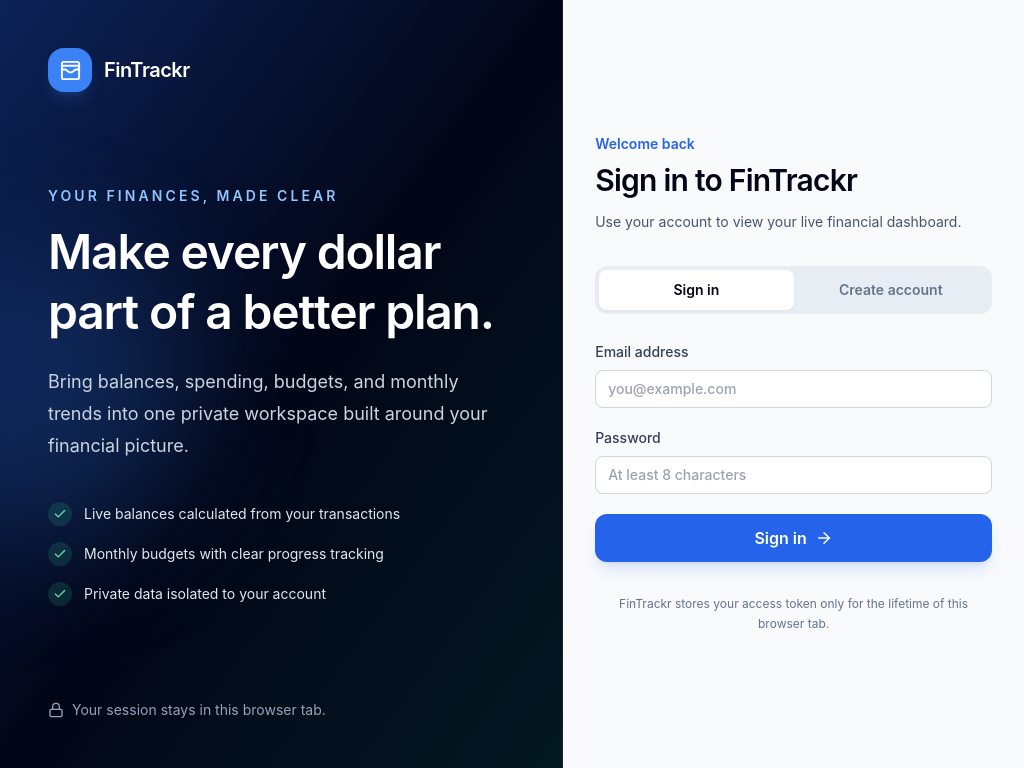
Test: AuthPage › shows the API error when credentials are rejected
This screenshot has width=1024, height=768.
Type "wrong@example.com" into the field labelled "Email address".
click(794, 389); type("wrong@example.com")  # box [595,370,992,408]
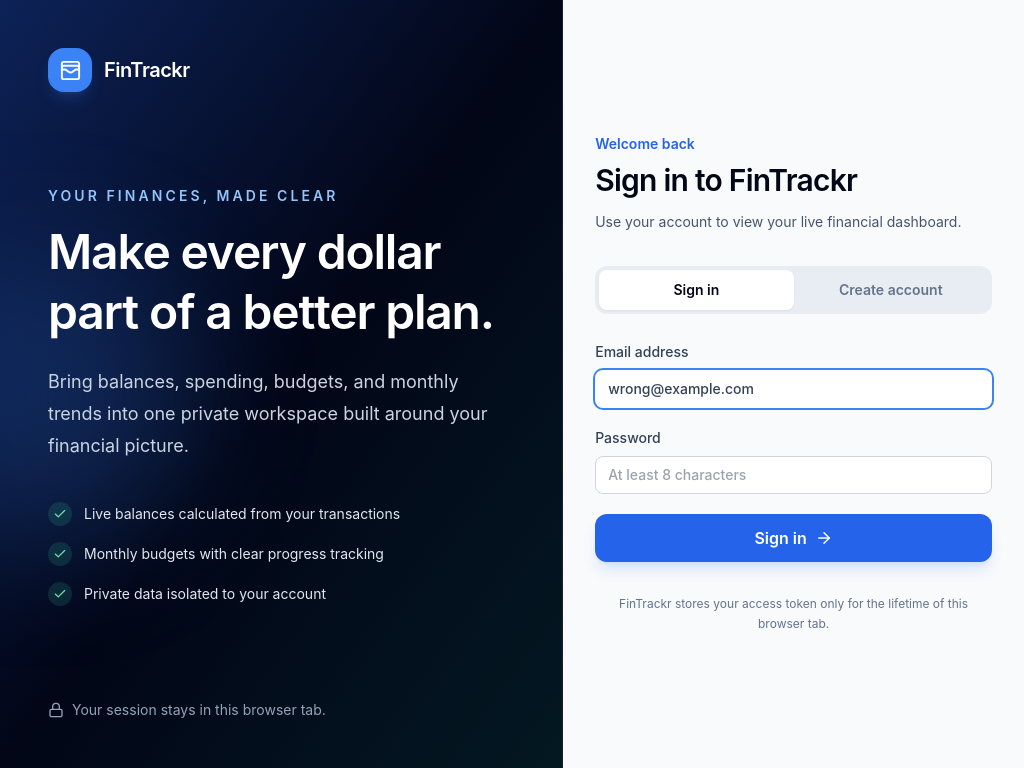
Type "Password123!" into the password field labelled "Password".
click(794, 475); type("Password123!")  # box [595,456,992,494]
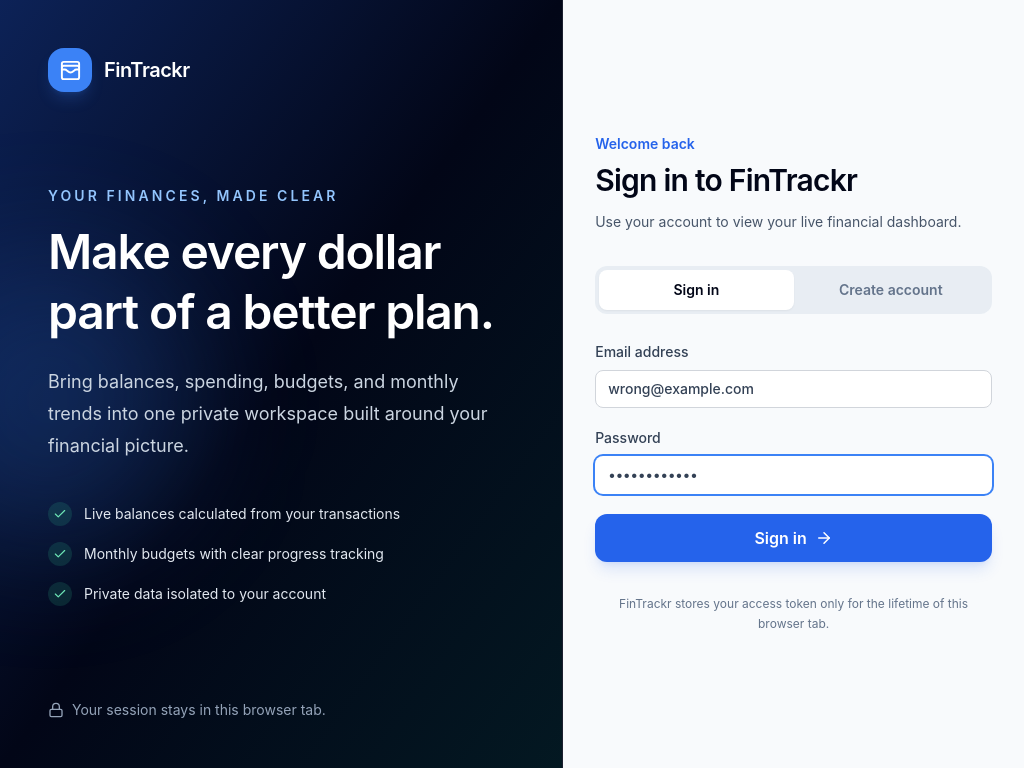
Click the button "Sign in" below "Password".
click(794, 538)  # box [595,514,992,562]
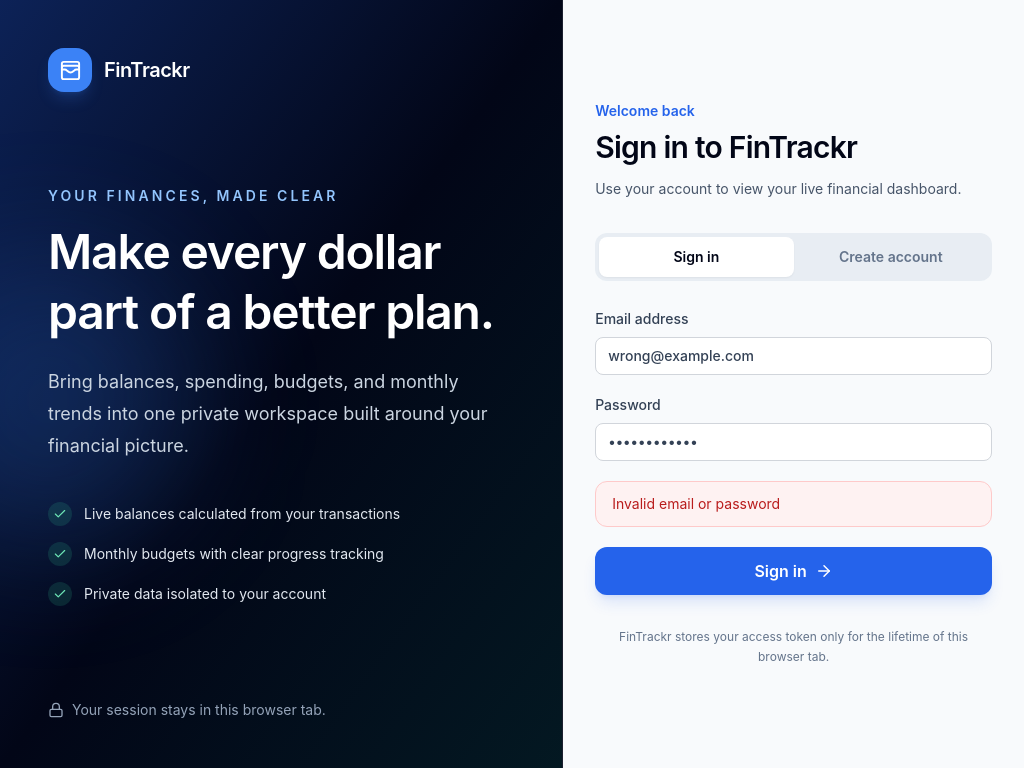
Check: the message reads "Invalid email or password", box [612,495,780,512]
